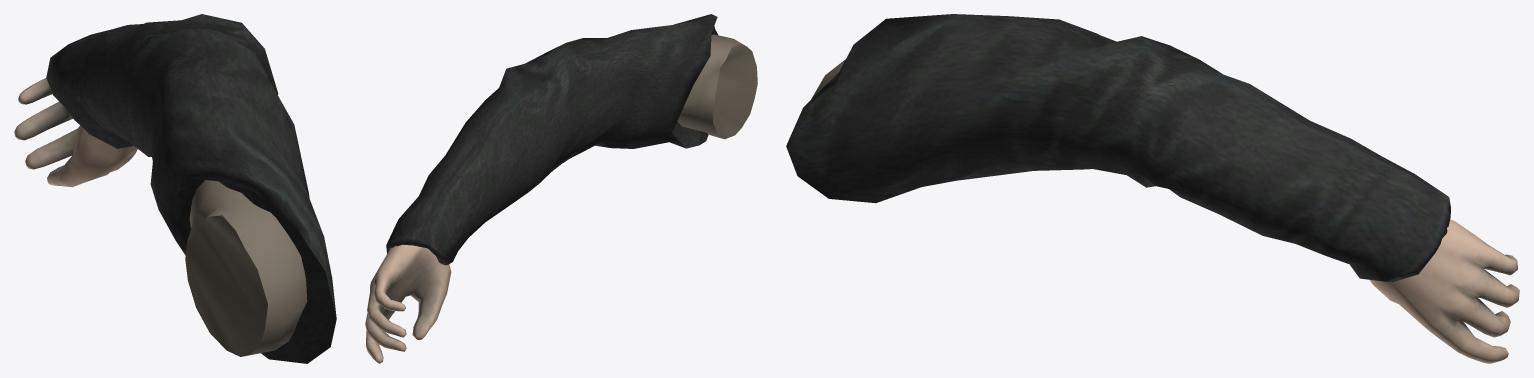
Rendered from dest_nt_nuked_male_01_arm_left_LOD0.obj.
3 views of the same model, side by side, from view 1: azimuth 30°, elevation 25°; view 2: azimuth 150°, elevation 25°; view 3: azimuth 270°, elevation 25° (orthographic). The views are drawn at different scales.
Parts seen in each view (by area): view 1: mtl_nt_2020_manne_male01_jacket1, mtl_nt_2020_manne_male01_head1; view 2: mtl_nt_2020_manne_male01_jacket1, mtl_nt_2020_manne_male01_head1; view 3: mtl_nt_2020_manne_male01_jacket1, mtl_nt_2020_manne_male01_head1.
Boxes of the visible parts, box(x1,y1,x2,y2) form: mtl_nt_2020_manne_male01_jacket1: box(46, 14, 336, 363); mtl_nt_2020_manne_male01_head1: box(14, 78, 307, 356); mtl_nt_2020_manne_male01_jacket1: box(386, 14, 718, 265); mtl_nt_2020_manne_male01_head1: box(365, 34, 757, 363); mtl_nt_2020_manne_male01_jacket1: box(786, 14, 1450, 282); mtl_nt_2020_manne_male01_head1: box(811, 59, 1519, 363).
Bounding box in the file's own units: 22.34 × 30.66 × 69.97.
